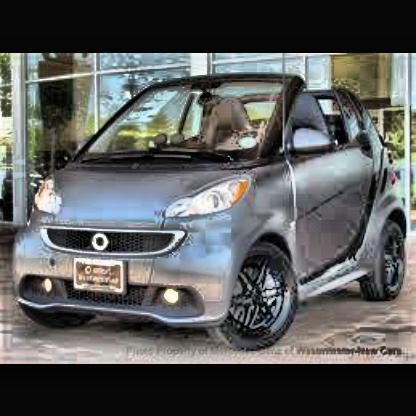smart fortwo Convertible 2012: (14, 65, 412, 358)
